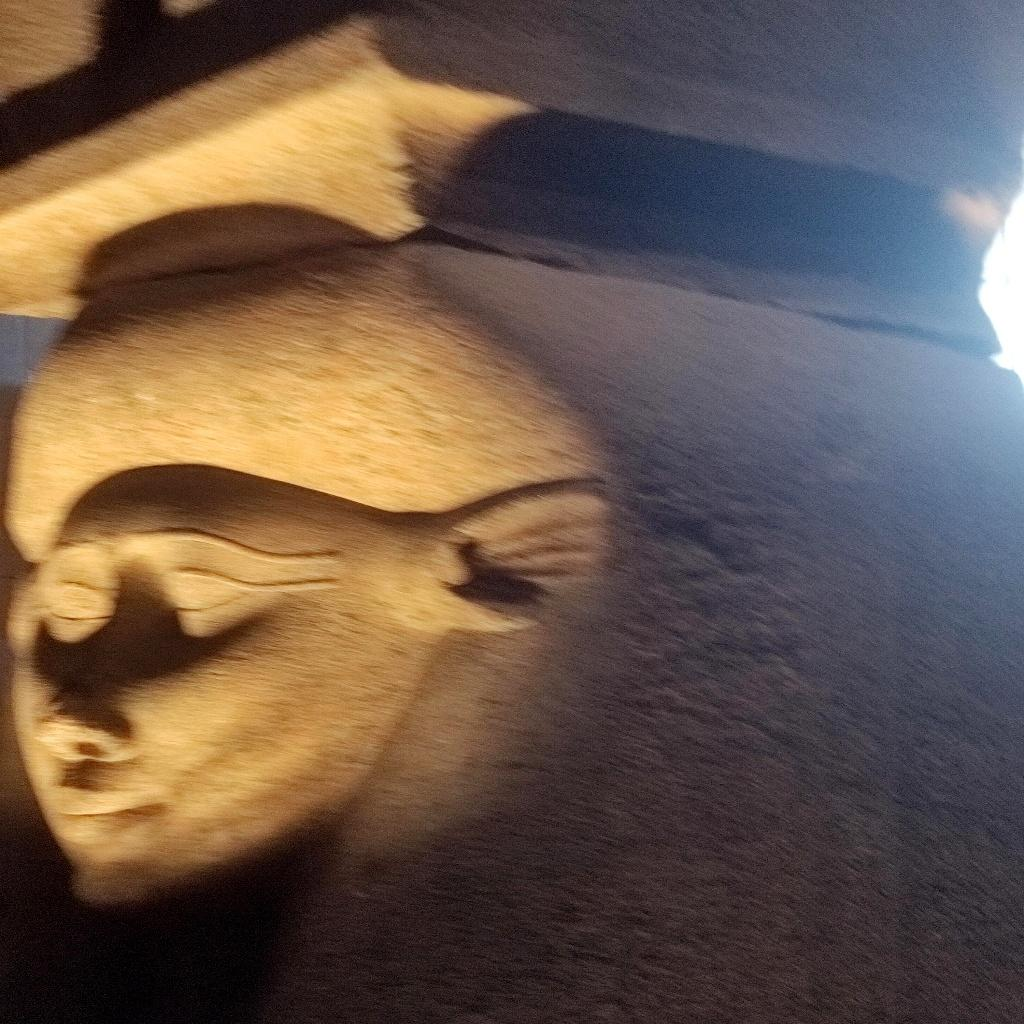Hathor Capital: (10, 0, 645, 916)
